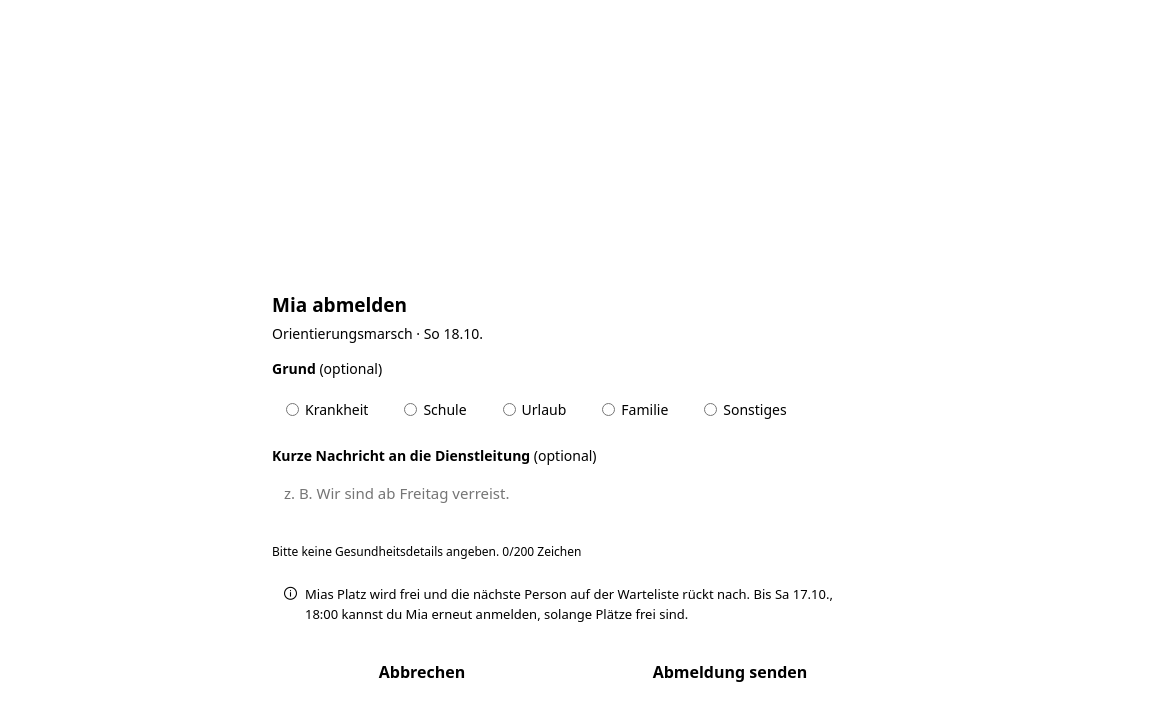
PortalCancelSheet › counts note characters and limits to 200
Step 1. Type "abc" into the text box labelled "Kurze Nachricht an die Dienstleitung (optional)" → {"x": 576, "y": 504}, box 272,472 -> 880,537
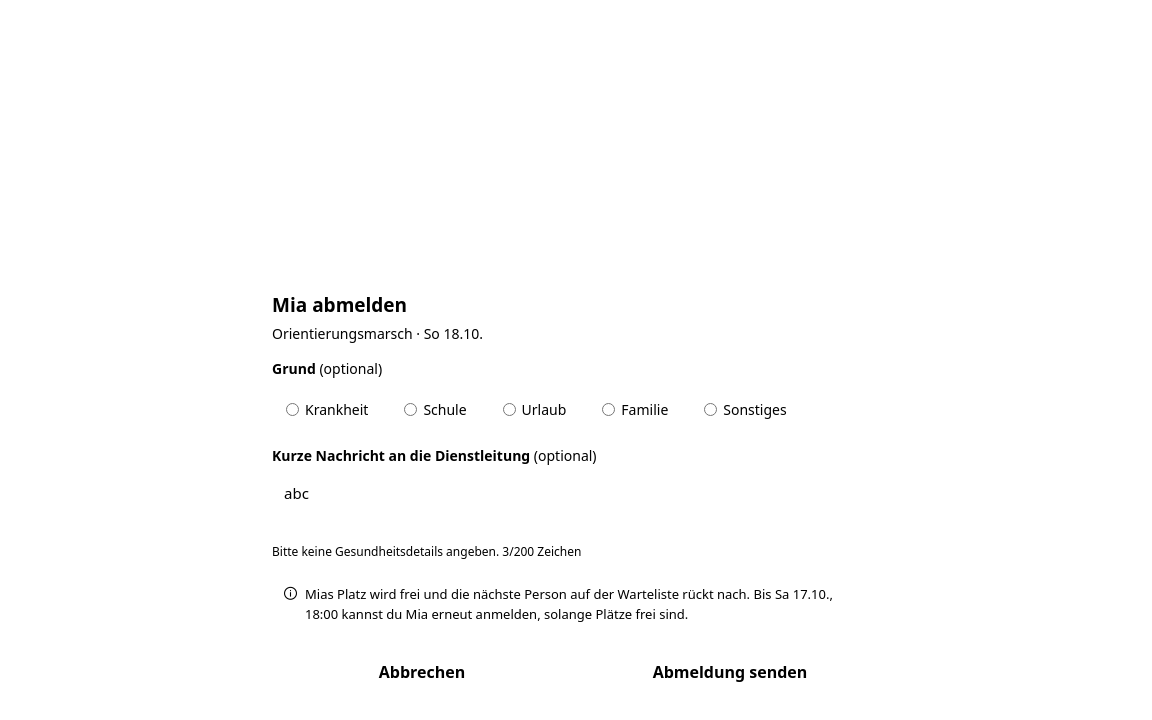
Expected: the text "3/200 Zeichen" is shown, 272,543 -> 582,560
